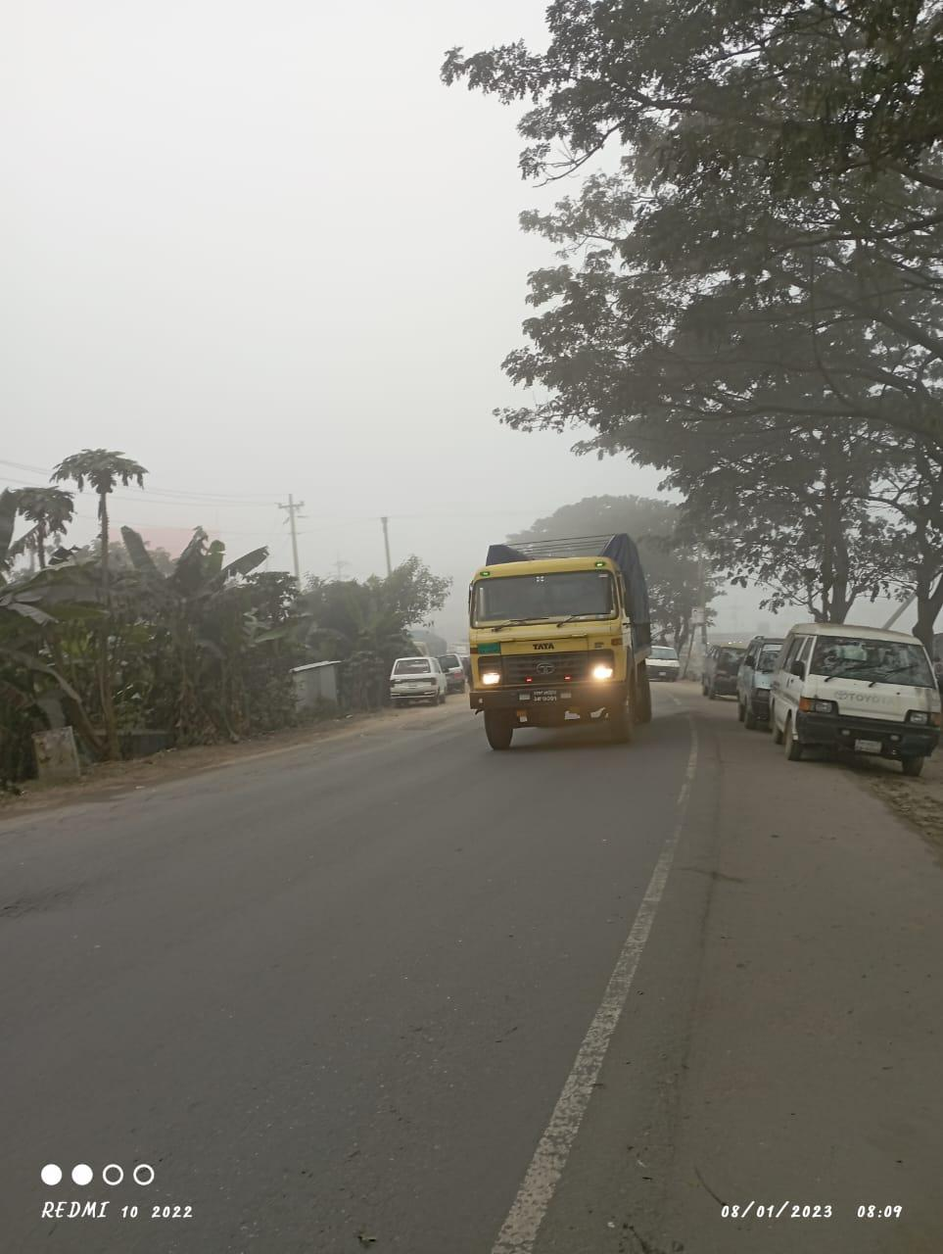Car: (773, 619, 943, 772), (382, 653, 451, 710), (640, 631, 689, 693), (702, 642, 746, 705)
Truck: (452, 530, 655, 749)
